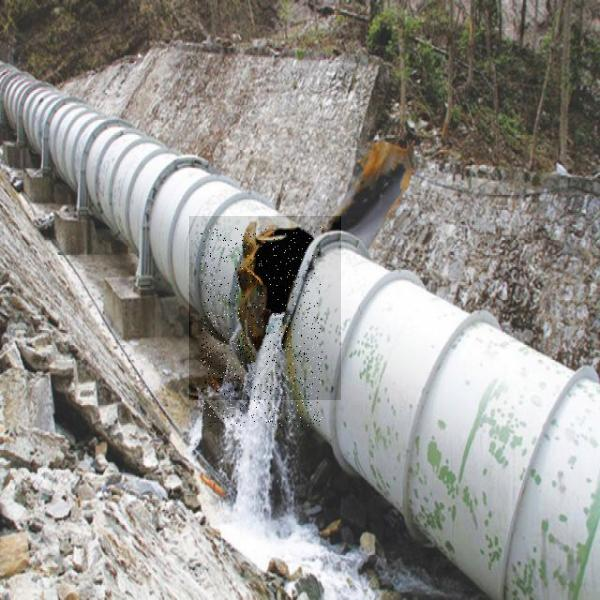water: (189, 216, 341, 400)
